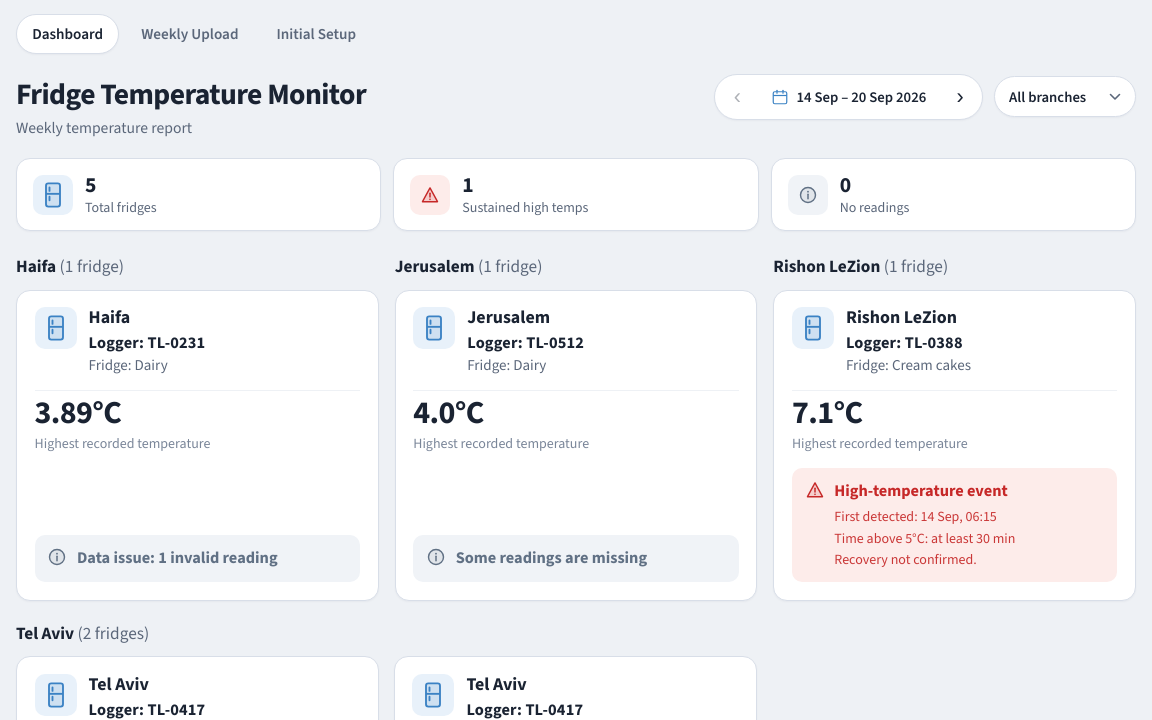
Test case: App fridge details navigation › opens the clicked fridge, keeps the week, and does not fetch series from the dashboard
This screenshot has width=1152, height=720.
Check: the heading "Fridge Temperature Monitor" is shown, box x1=16 y1=74 x2=366 y2=114
Click the button named "Older week" at [960, 97], box x1=942 y1=79 x2=978 y2=115
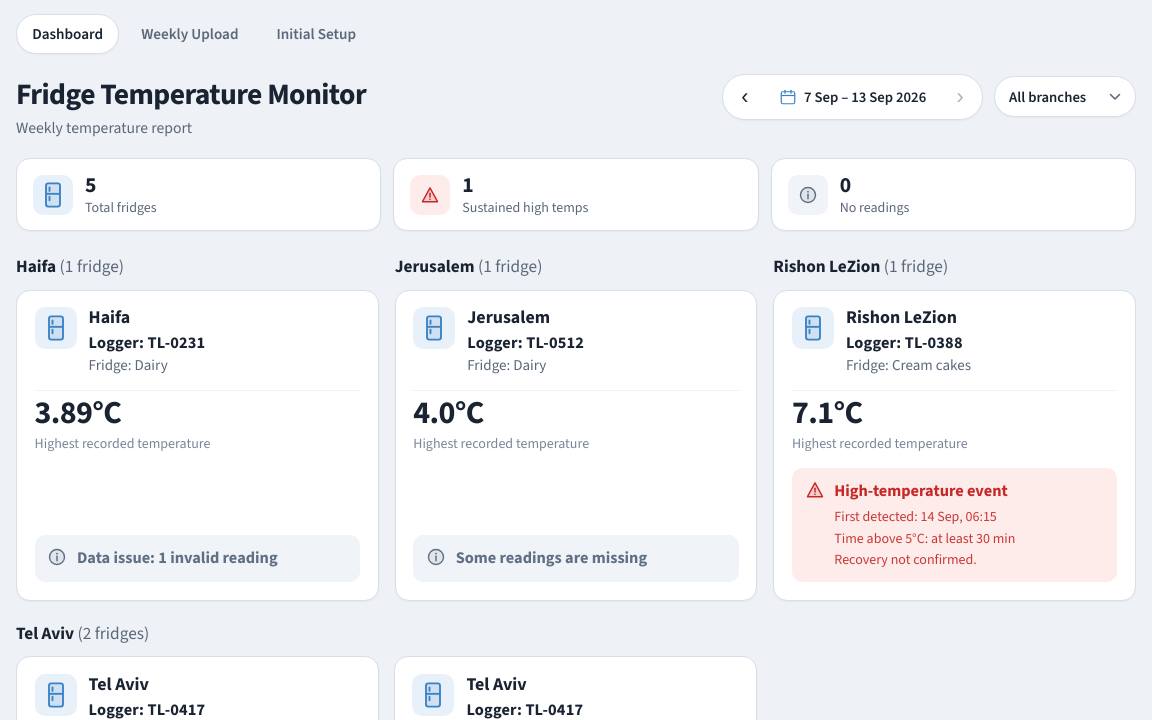
Check: the text "7 Sep – 13 Sep 2026" is shown, box x1=804 y1=87 x2=926 y2=107
Click the element named "View details for Cream cakes, Rishon LeZion" at [955, 445], box x1=773 y1=290 x2=1136 y2=601
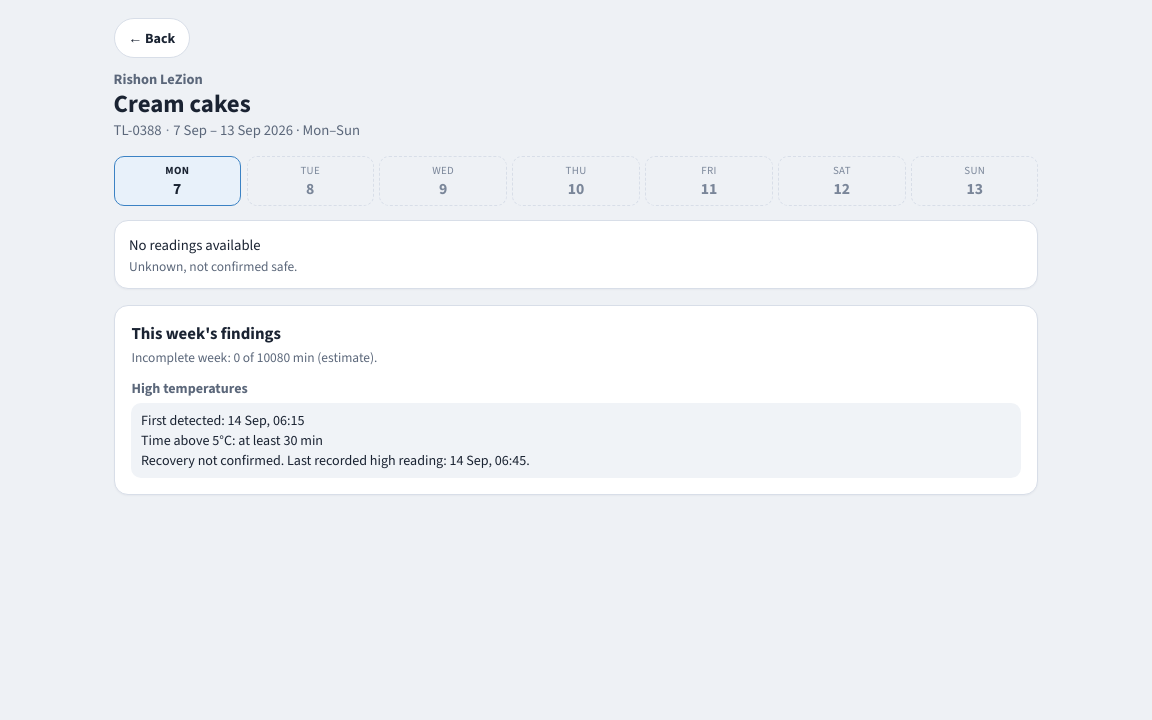
Check: the text "7 Sep – 13 Sep 2026 · Mon–Sun" is shown, box x1=173 y1=121 x2=360 y2=140
Check: the navigation bar "Main" is gone
Check: the button "← Back" is shown, box x1=114 y1=18 x2=190 y2=58
Click the tab "Tue 8" at [310, 181], box x1=246 y1=156 x2=374 y2=206
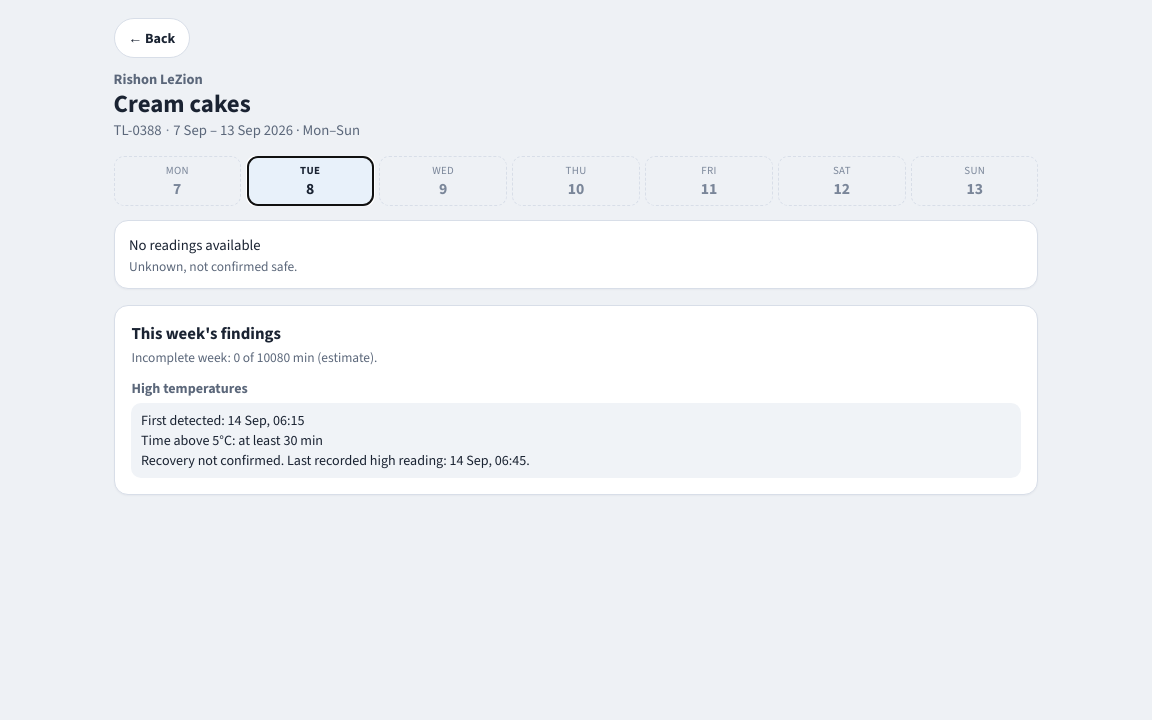
Check: the text "No readings available" is shown, box x1=129 y1=235 x2=261 y2=255
Click the button "← Back" at [152, 38], box x1=114 y1=18 x2=190 y2=58
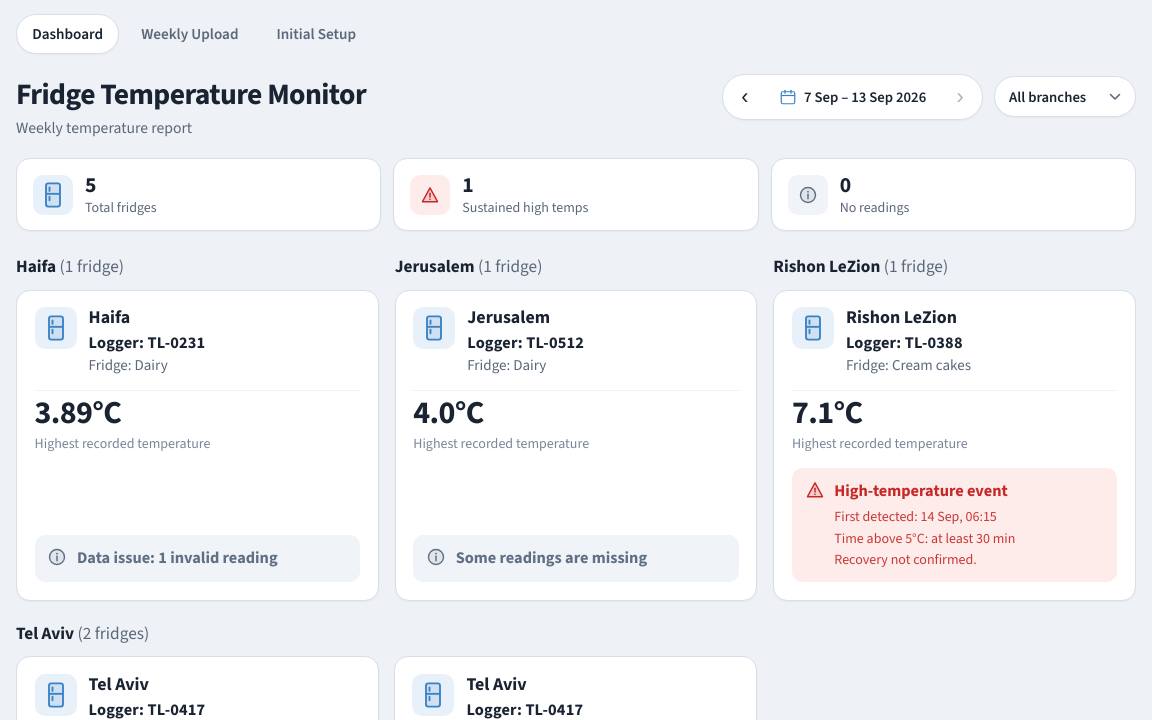
Check: the text "7 Sep – 13 Sep 2026" is shown, box x1=804 y1=87 x2=926 y2=107
Check: the element named "View details for Cream cakes, Rishon LeZion" is shown, box x1=773 y1=290 x2=1136 y2=601
